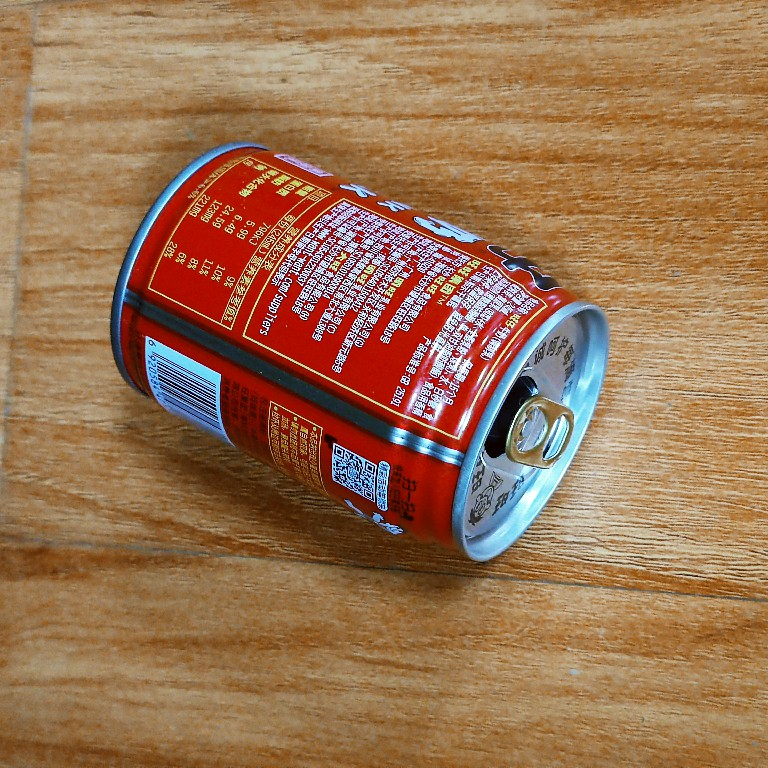can: (108, 139, 612, 570)
